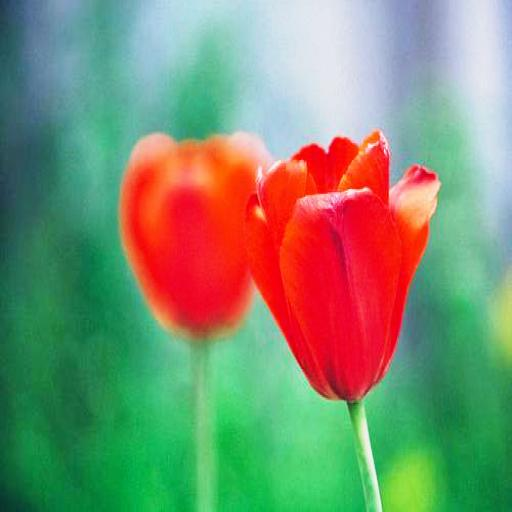tulip: (253, 129, 435, 400), (125, 129, 266, 334)
